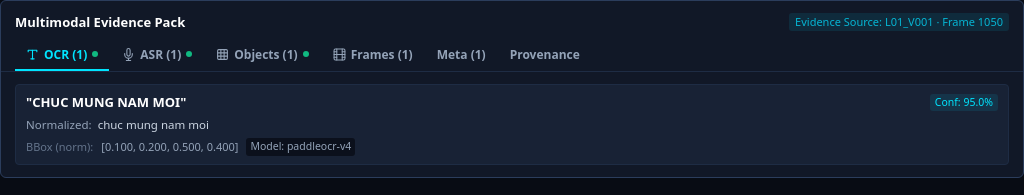
Test: T034 / T035 Evidence Rendering & Provenance UI › renders Frames tab with submission selectability and proof provenance
Click the tab with test id "tab-evidence-frames": (373, 55) [322, 40, 424, 71]
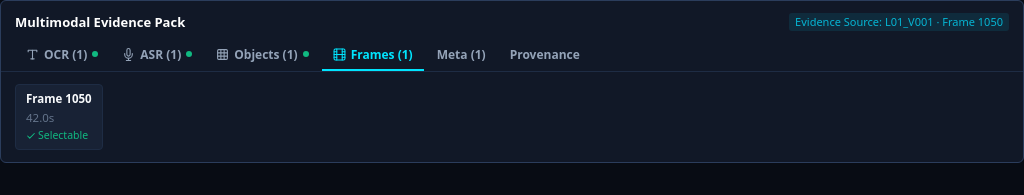
Result: the element with test id "pane-evidence-frames" is shown at [15, 84, 103, 150]
Result: the text "Frame 1050" is shown at [26, 91, 92, 108]
Result: the text "Selectable" is shown at [26, 128, 92, 143]
